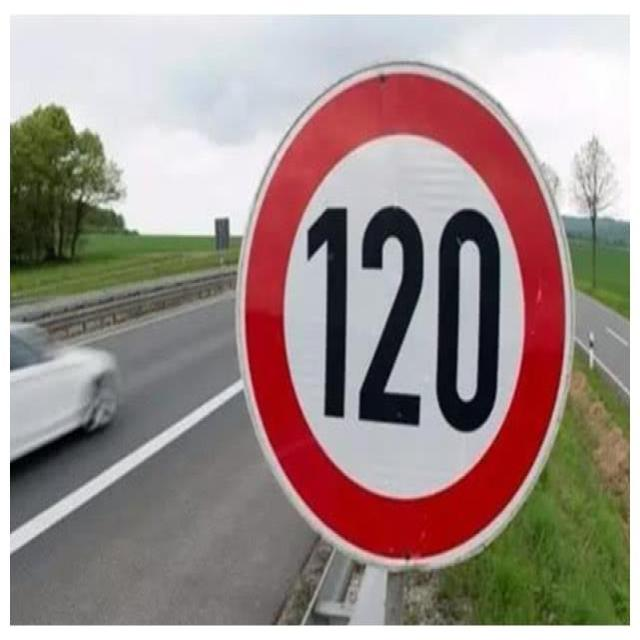speed limit 120: (237, 59, 574, 561)
